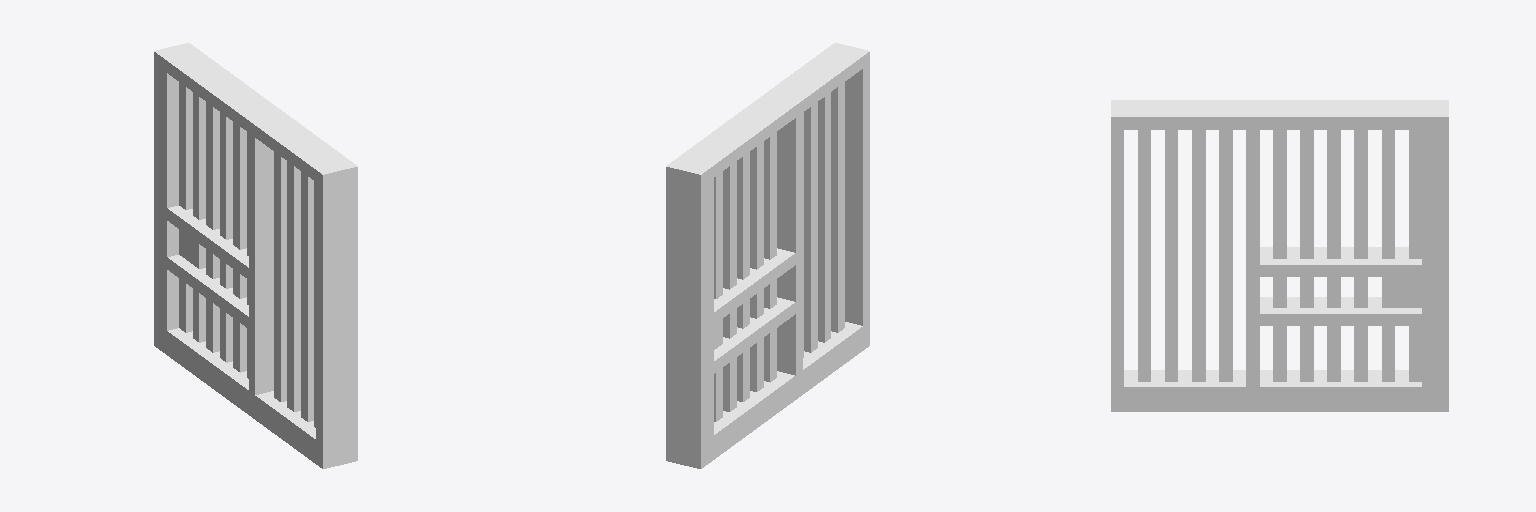
The model's file is Cell_Front.obj.
3 renders of one model, left to right at view 1: azimuth 30°, elevation 25°; view 2: azimuth 150°, elevation 25°; view 3: azimuth 270°, elevation 25°, orthographic.
Bounding box in the file's own units: 3 × 24 × 25.